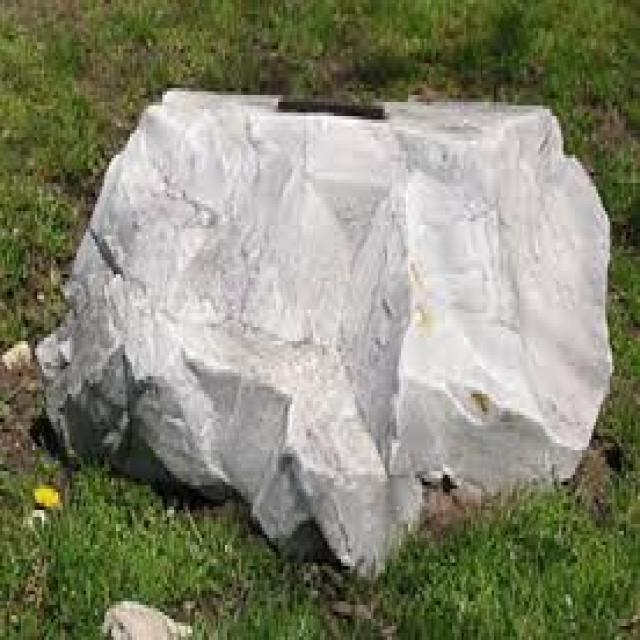Metamorphic: (42, 84, 610, 538)
